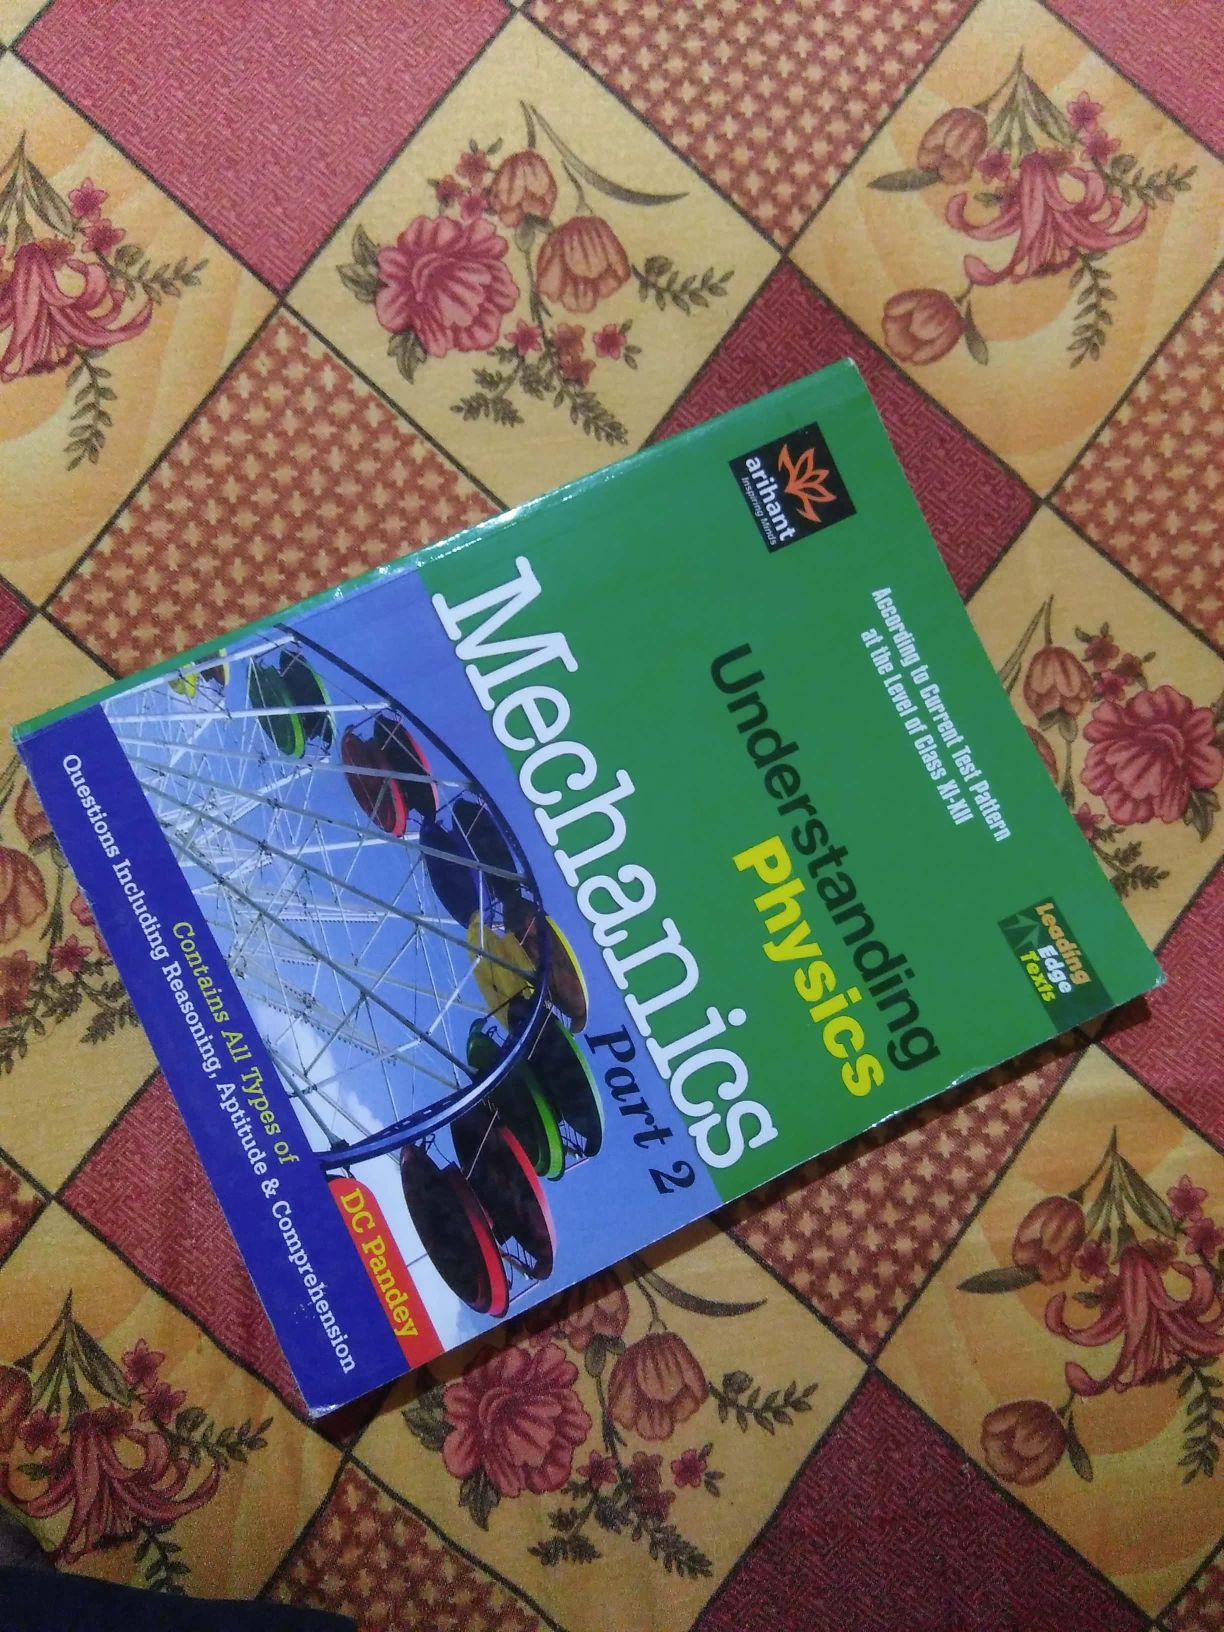mechanics: (22, 361, 1137, 1372)
